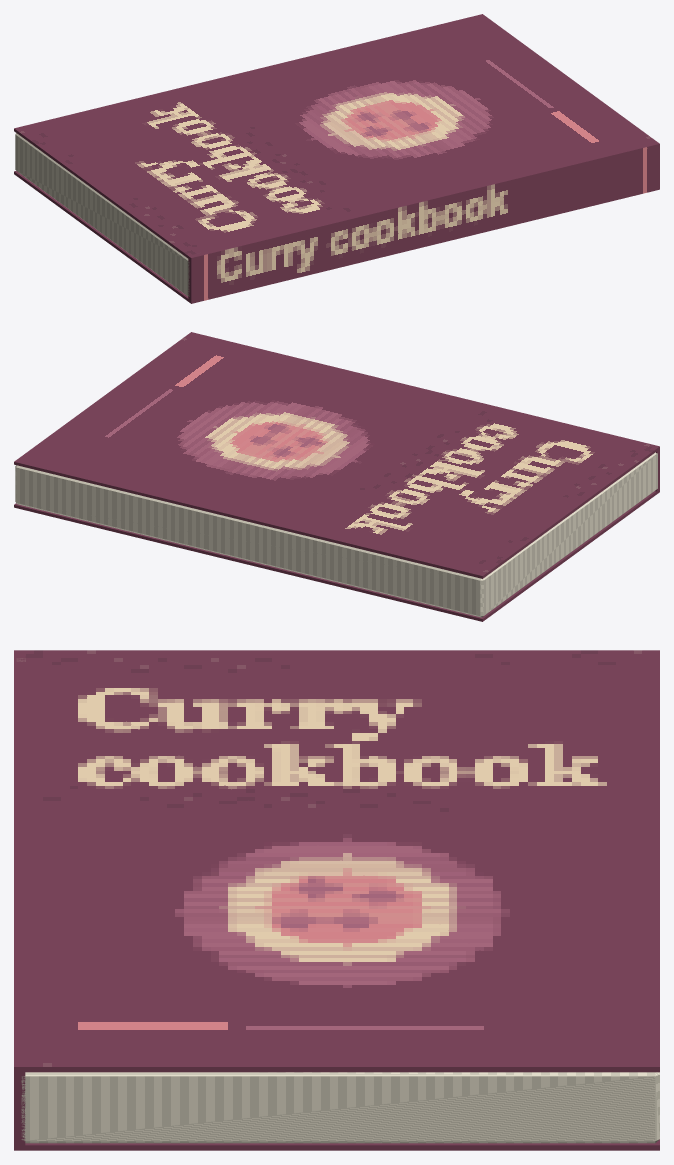
The model's file is cookbook_curry.glb.
The picture shows the model from 3 angles, top to bottom: view 1: azimuth 30°, elevation 25°; view 2: azimuth 150°, elevation 25°; view 3: azimuth 270°, elevation 25°; orthographic projection. The views are drawn at different scales.
Visible parts, largest first — view 1: block_front, block_spine, block_pages, block_back; view 2: block_front, block_pages, block_back, block_spine; view 3: block_front, block_pages, block_back, block_spine.
Part boxes in pixels (bbox=[...]): block_front: bbox=[14, 14, 656, 259]; block_spine: bbox=[188, 141, 659, 303]; block_pages: bbox=[15, 133, 189, 296]; block_back: bbox=[14, 171, 190, 302]; block_front: bbox=[14, 332, 659, 578]; block_pages: bbox=[15, 452, 657, 617]; block_back: bbox=[14, 490, 659, 621]; block_spine: bbox=[188, 332, 659, 492]; block_front: bbox=[16, 650, 659, 1072]; block_pages: bbox=[21, 1072, 659, 1143]; block_back: bbox=[17, 1139, 659, 1150]; block_spine: bbox=[14, 650, 25, 1150].
Size of the model in its own units: 0.196 by 0.0183 by 0.1285.
1 material, 1 textured.
